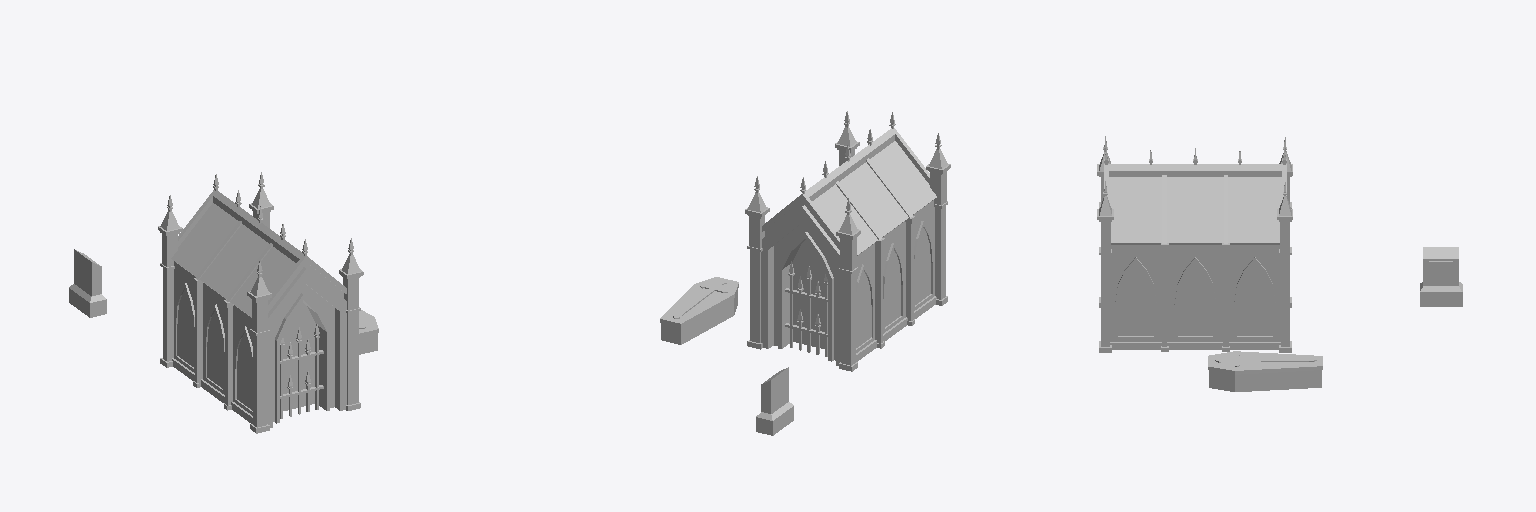
File: coffin.obj
3 renders of one model, left to right at view 1: azimuth 30°, elevation 25°; view 2: azimuth 150°, elevation 25°; view 3: azimuth 270°, elevation 25°, orthographic.
Parts seen in each view (by area): view 1: Crypt_3_Mesh.007, Headstone_3_Mesh.006, Coffin_1_Mesh.005; view 2: Crypt_3_Mesh.007, Coffin_1_Mesh.005, Headstone_3_Mesh.006; view 3: Crypt_3_Mesh.007, Coffin_1_Mesh.005, Headstone_3_Mesh.006.
Boxes of the visible parts, <box> form: Crypt_3_Mesh.007: <box>158,172,363,433</box>; Headstone_3_Mesh.006: <box>69,249,106,317</box>; Coffin_1_Mesh.005: <box>359,310,378,354</box>; Crypt_3_Mesh.007: <box>745,111,950,371</box>; Coffin_1_Mesh.005: <box>660,277,738,344</box>; Headstone_3_Mesh.006: <box>756,367,793,435</box>; Crypt_3_Mesh.007: <box>1097,136,1292,352</box>; Coffin_1_Mesh.005: <box>1208,351,1322,391</box>; Headstone_3_Mesh.006: <box>1420,247,1462,306</box>.
Size of the model in its own units: 2.83 by 2.53 by 4.66.